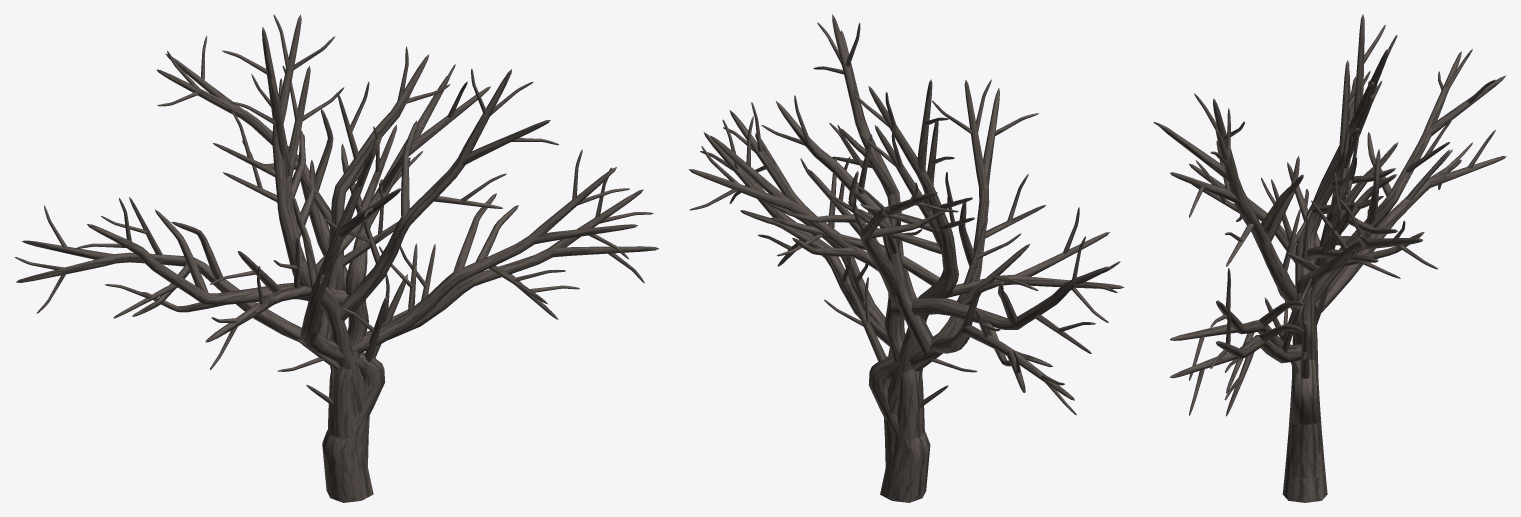
File: dead-trees-2.glb
3 views of the same model, side by side, from view 1: azimuth 30°, elevation 25°; view 2: azimuth 150°, elevation 25°; view 3: azimuth 270°, elevation 25° (orthographic). The views are drawn at different scales.
Visible parts, largest first — view 1: DeadTree_8, DeadTree_7, DeadTree_10, DeadTree_6, DeadTree_9; view 2: DeadTree_8, DeadTree_7, DeadTree_10, DeadTree_6, DeadTree_9; view 3: DeadTree_8, DeadTree_7, DeadTree_10, DeadTree_6, DeadTree_9.
Part boxes in pixels (box(x1,y1,x2,y2)): DeadTree_8: box(76, 36, 658, 500); DeadTree_7: box(15, 46, 450, 502); DeadTree_10: box(205, 14, 558, 466); DeadTree_6: box(223, 65, 637, 411); DeadTree_9: box(306, 274, 407, 405); DeadTree_8: box(688, 116, 1117, 500); DeadTree_7: box(761, 79, 1076, 502); DeadTree_10: box(813, 14, 1124, 466); DeadTree_6: box(723, 102, 974, 413); DeadTree_9: box(824, 277, 948, 407); DeadTree_8: box(1170, 49, 1505, 502); DeadTree_7: box(1153, 93, 1506, 493); DeadTree_10: box(1170, 14, 1397, 478); DeadTree_6: box(1170, 60, 1400, 393); DeadTree_9: box(1264, 297, 1309, 378).
Bounding box in the file's own units: 8.3 × 7.13 × 5.03.
Materials: 1 (1 with a texture image).
